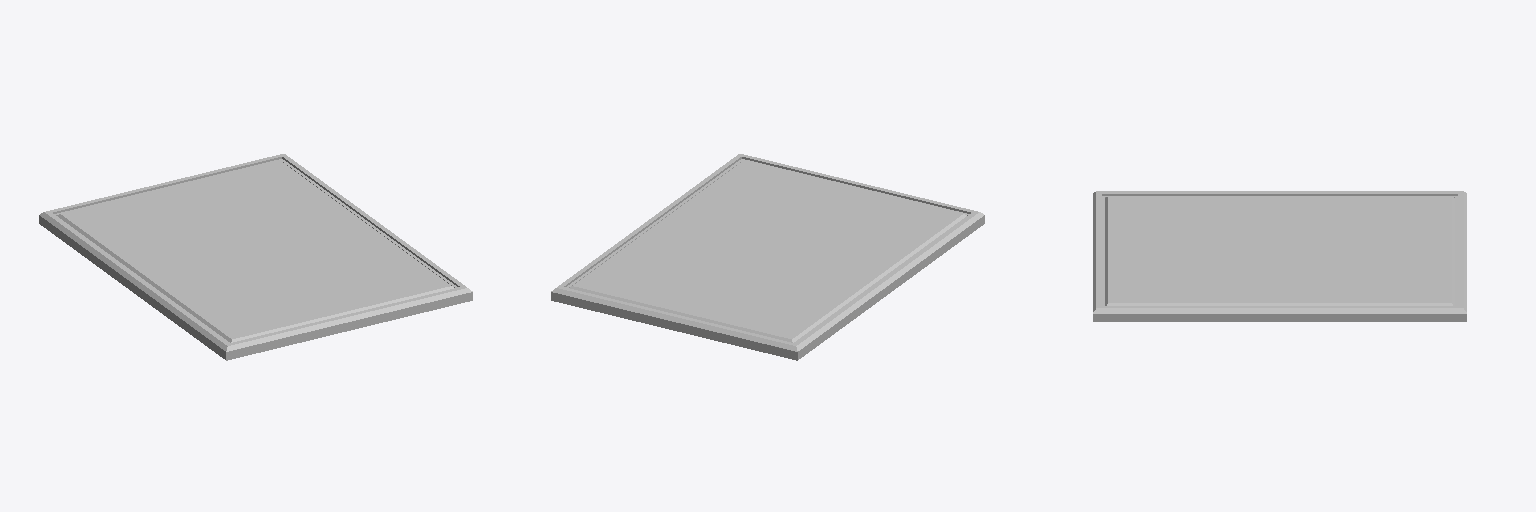
Rendered from cutting board.obj.
The picture shows the model from 3 angles: view 1: azimuth 30°, elevation 25°; view 2: azimuth 150°, elevation 25°; view 3: azimuth 270°, elevation 25°; orthographic projection.
Parts seen in each view (by area): view 1: cutting_board_Cube.019; view 2: cutting_board_Cube.019; view 3: cutting_board_Cube.019.
Boxes of the visible parts, x1,y1,x2,y2 form: cutting_board_Cube.019: [39, 154, 472, 360]; cutting_board_Cube.019: [551, 154, 984, 360]; cutting_board_Cube.019: [1093, 191, 1466, 321].
Bounding box in the file's own units: 0.8589 × 0.0408 × 1.13.